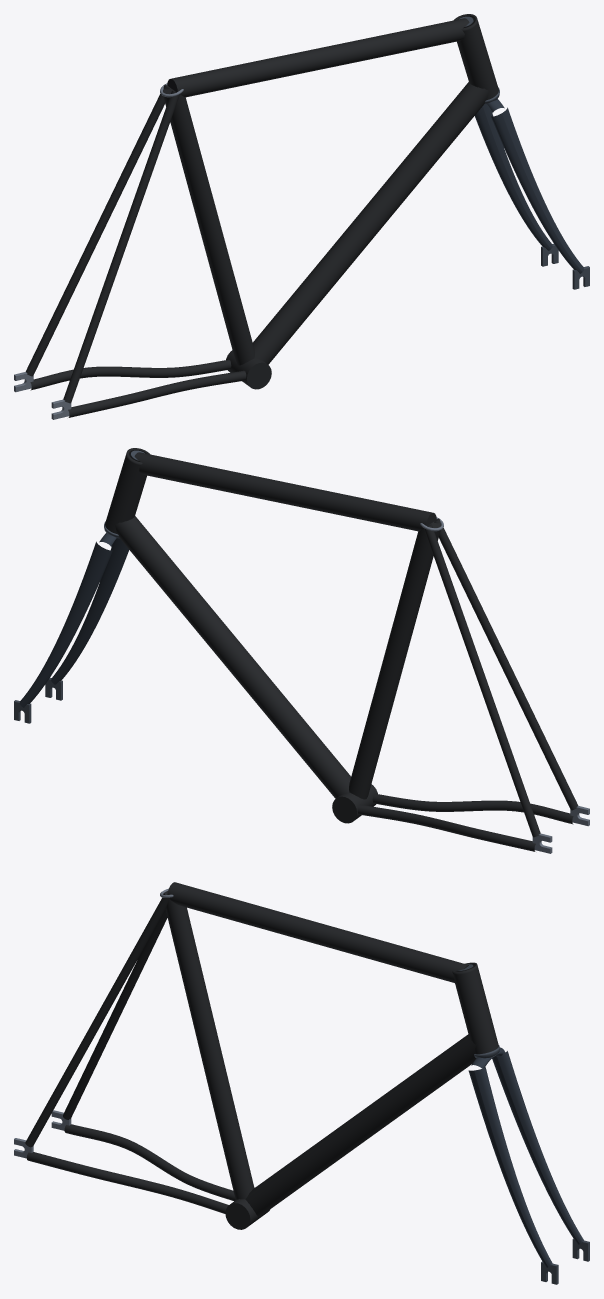
File: dosnoventa-02-la-m.glb
The picture shows the model from 3 angles, top to bottom: view 1: azimuth 30°, elevation 25°; view 2: azimuth 150°, elevation 25°; view 3: azimuth 330°, elevation 25°; orthographic projection.
Visible parts, largest first — view 1: paint_down, paint_top, paint_seat, paint_seatstay_1, paint_seatstay_-1, fork_blade_1, fork_blade_-1, paint_chainstay_-1, paint_chainstay_1, paint_head, paint_bottom_bracket; view 2: paint_down, paint_top, paint_seat, paint_seatstay_-1, paint_seatstay_1, fork_blade_-1, fork_blade_1, paint_chainstay_1, paint_chainstay_-1, paint_head, paint_bottom_bracket; view 3: paint_down, paint_top, paint_seat, fork_blade_1, fork_blade_-1, paint_seatstay_1, paint_head, paint_chainstay_1, paint_seatstay_-1, paint_chainstay_-1, paint_bottom_bracket.
Part boxes in pixels (left/top/right/bottom): paint_down: left=253, top=82, right=489, bottom=364; paint_top: left=167, top=18, right=469, bottom=97; paint_seat: left=163, top=87, right=254, bottom=365; paint_seatstay_1: left=63, top=90, right=179, bottom=403; paint_seatstay_-1: left=25, top=84, right=169, bottom=376; fork_blade_1: left=491, top=107, right=584, bottom=273; fork_blade_-1: left=475, top=104, right=552, bottom=250; paint_chainstay_-1: left=30, top=359, right=231, bottom=390; paint_chainstay_1: left=68, top=370, right=246, bottom=417; paint_head: left=453, top=14, right=498, bottom=100; paint_bottom_bracket: left=226, top=350, right=271, bottom=389; paint_down: left=114, top=516, right=350, bottom=798; paint_top: left=134, top=452, right=436, bottom=531; paint_seat: left=349, top=521, right=440, bottom=799; paint_seatstay_-1: left=424, top=524, right=540, bottom=837; paint_seatstay_1: left=434, top=518, right=578, bottom=810; fork_blade_-1: left=19, top=541, right=112, bottom=707; fork_blade_1: left=51, top=538, right=128, bottom=684; paint_chainstay_1: left=372, top=793, right=573, bottom=824; paint_chainstay_-1: left=357, top=804, right=535, bottom=851; paint_head: left=105, top=448, right=150, bottom=534; paint_bottom_bracket: left=332, top=784, right=377, bottom=823; paint_down: left=245, top=1034, right=476, bottom=1216; paint_top: left=167, top=882, right=468, bottom=982; paint_seat: left=163, top=891, right=254, bottom=1199; fork_blade_1: left=468, top=1067, right=552, bottom=1267; fork_blade_-1: left=492, top=1051, right=584, bottom=1244; paint_seatstay_1: left=25, top=892, right=169, bottom=1147; paint_head: left=452, top=962, right=498, bottom=1054; paint_chainstay_1: left=26, top=1152, right=228, bottom=1213; paint_seatstay_-1: left=63, top=910, right=167, bottom=1119; paint_chainstay_-1: left=64, top=1124, right=235, bottom=1201; paint_bottom_bracket: left=225, top=1187, right=269, bottom=1229.
Size of the model in its own units: 0.9902 by 0.5616 by 0.1399.
